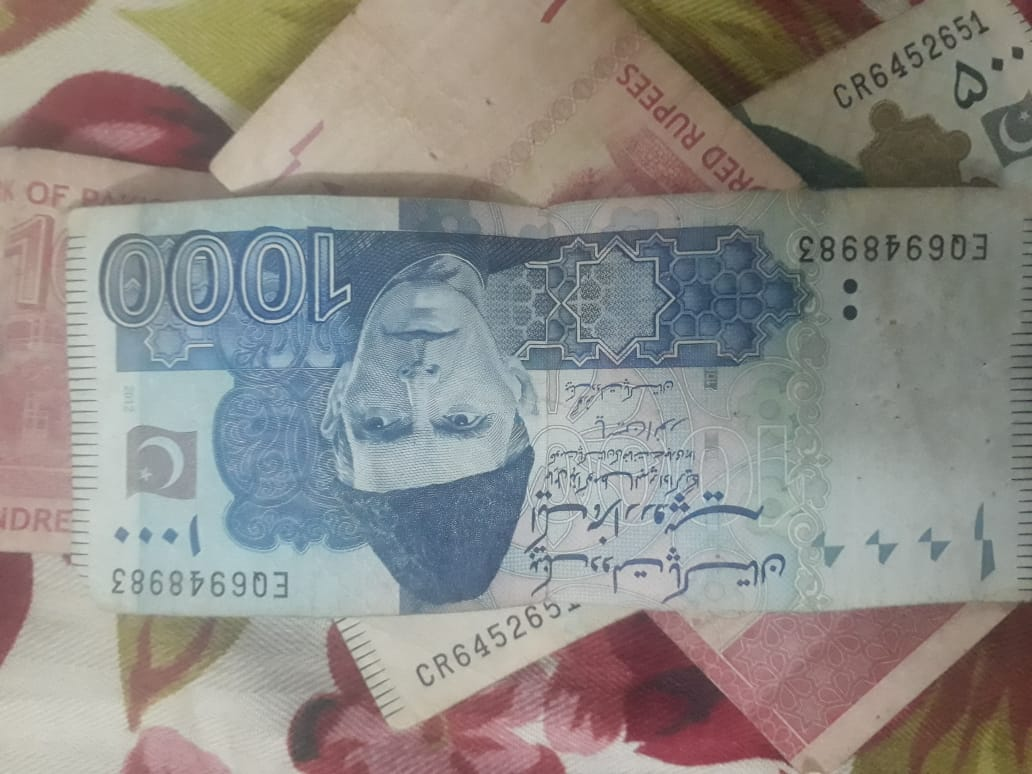1000 rupee: (61, 178, 1030, 646)
